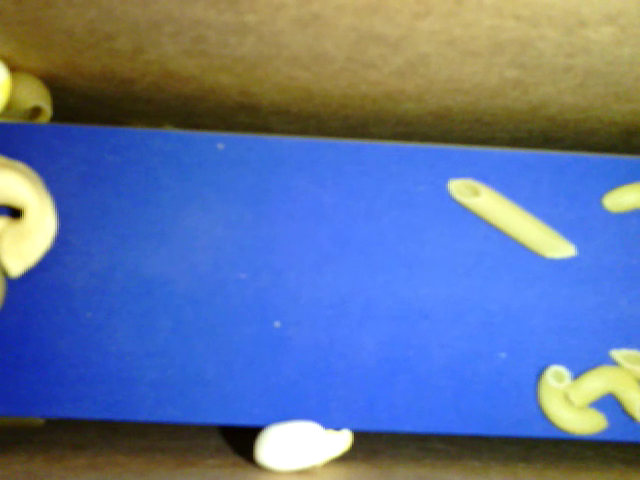elbow: (536, 359, 609, 436), (566, 359, 639, 423)
penne: (445, 175, 577, 263), (609, 346, 639, 384)
shell: (4, 67, 56, 125)
tortellini: (1, 151, 60, 279)
